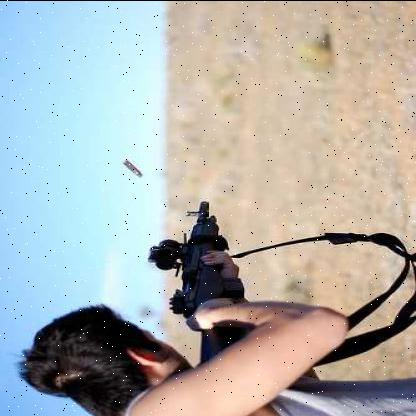rifle: (147, 186, 349, 388)
